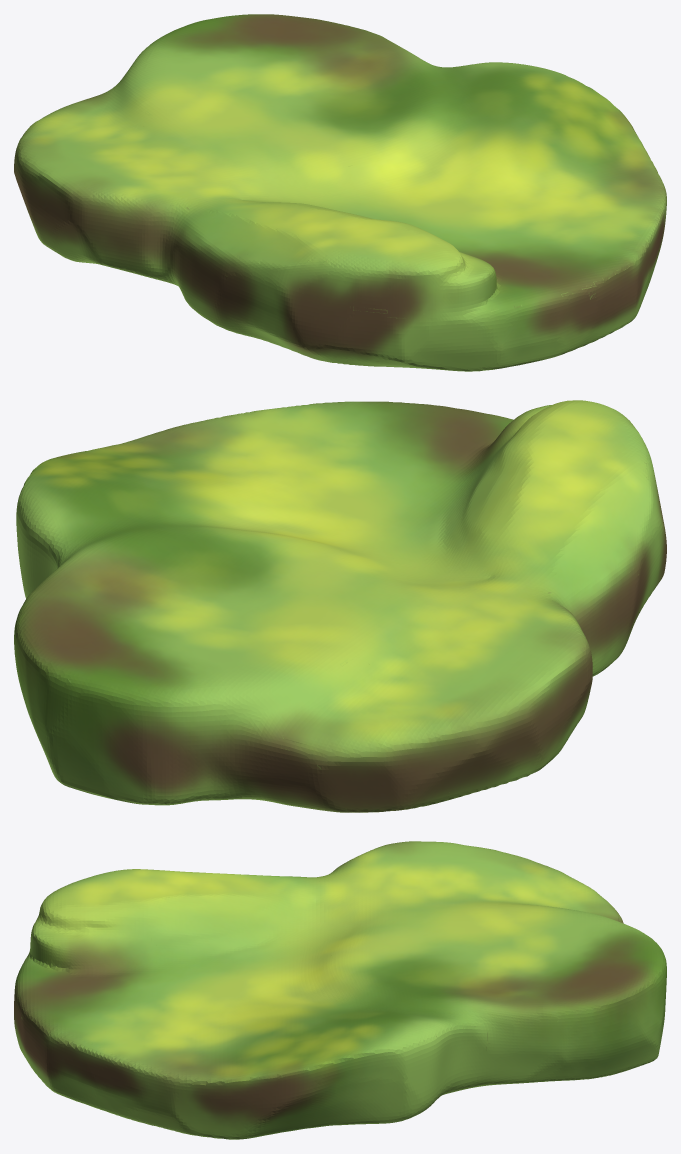
Rendered from Island.fbx.
3 renders of one model, top to bottom at view 1: azimuth 30°, elevation 25°; view 2: azimuth 150°, elevation 25°; view 3: azimuth 270°, elevation 25°, orthographic. The views are drawn at different scales.
Parts seen in each view (by area): view 1: O.002_Baked; view 2: O.002_Baked; view 3: O.002_Baked.
Boxes of the visible parts, <box> form: O.002_Baked: <box>14,14,666,371</box>; O.002_Baked: <box>14,400,666,812</box>; O.002_Baked: <box>14,841,666,1139</box>.
Size of the model in its own units: 113 by 25.95 by 137.
Materials: 1 (1 with a texture image).
